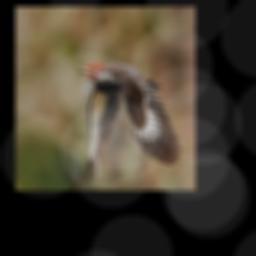Woodpecker: (78, 62, 182, 181)
